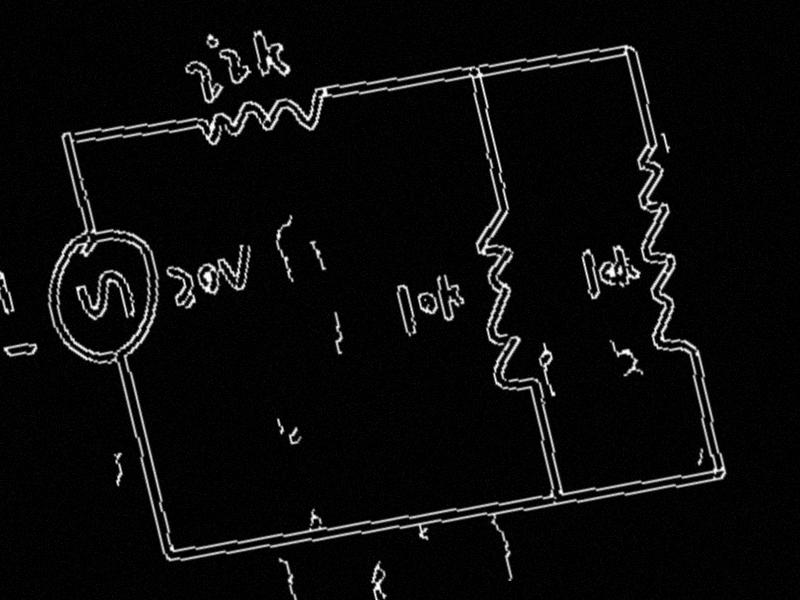-: (0, 336, 42, 364)
0: (192, 258, 225, 299), (594, 257, 625, 292), (413, 285, 440, 318)
1: (575, 245, 607, 304), (390, 280, 421, 339), (524, 375, 525, 377)
2: (180, 53, 229, 109), (163, 258, 203, 317), (217, 43, 256, 89)
V: (213, 240, 263, 294)
k: (247, 24, 295, 85), (431, 267, 470, 324), (609, 239, 645, 290)
